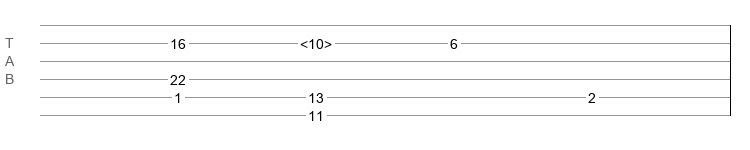1: (174, 90, 182, 100)
11: (308, 108, 324, 118)
13: (308, 90, 324, 100)
16: (170, 36, 186, 46)
2: (588, 90, 596, 100)
22: (170, 72, 186, 82)
6: (450, 36, 458, 46)
harmonic: (300, 36, 332, 46)
